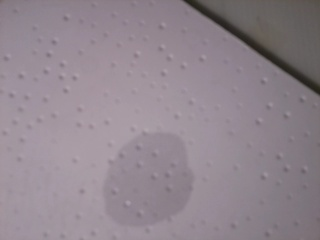Water_detected: (104, 137, 183, 217)
